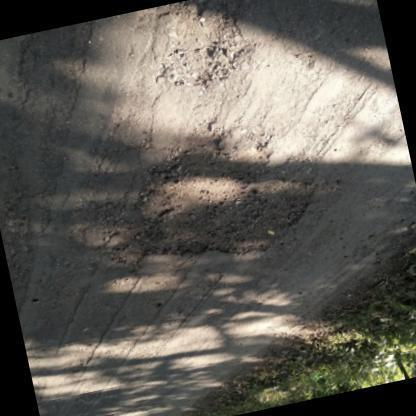pothole: (130, 146, 326, 262), (160, 0, 240, 88)
